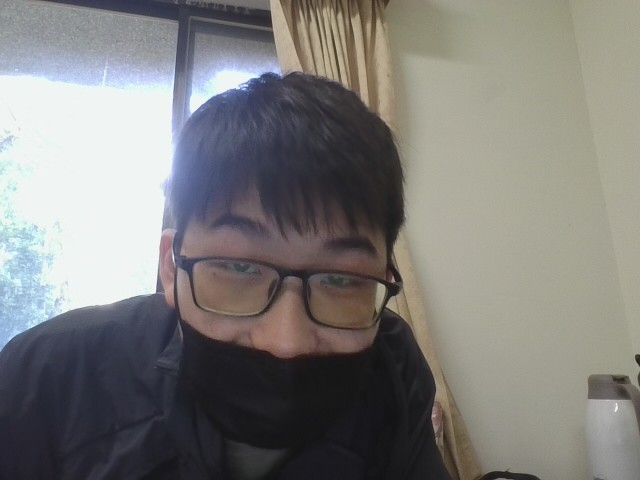No_Helmet: (156, 64, 409, 359)
person: (0, 56, 583, 480)
